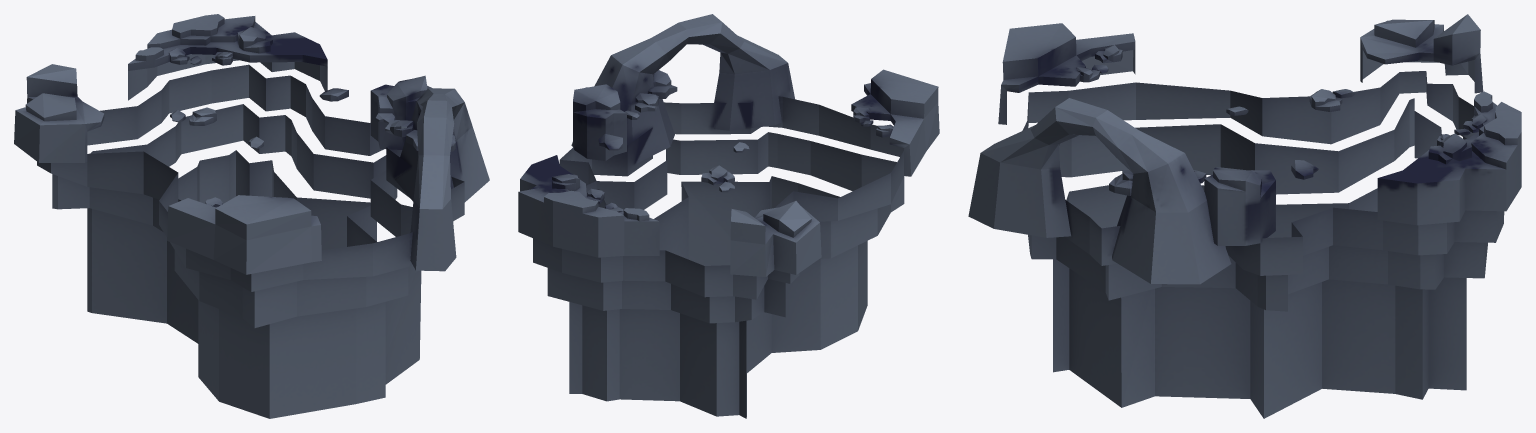
Rendered from Stone_01.FBX.
The picture shows the model from 3 angles, left to right: view 1: azimuth 30°, elevation 25°; view 2: azimuth 150°, elevation 25°; view 3: azimuth 270°, elevation 25°; orthographic projection. The views are drawn at different scales.
Visible parts, largest first — view 1: Stone_01; view 2: Stone_01; view 3: Stone_01.
Boxes of the visible parts, left/top/right/bottom form: Stone_01: left=14, top=14, right=489, bottom=418; Stone_01: left=518, top=14, right=939, bottom=418; Stone_01: left=968, top=14, right=1521, bottom=418.
Bounding box in the file's own units: 25.49 × 18.48 × 30.93.
